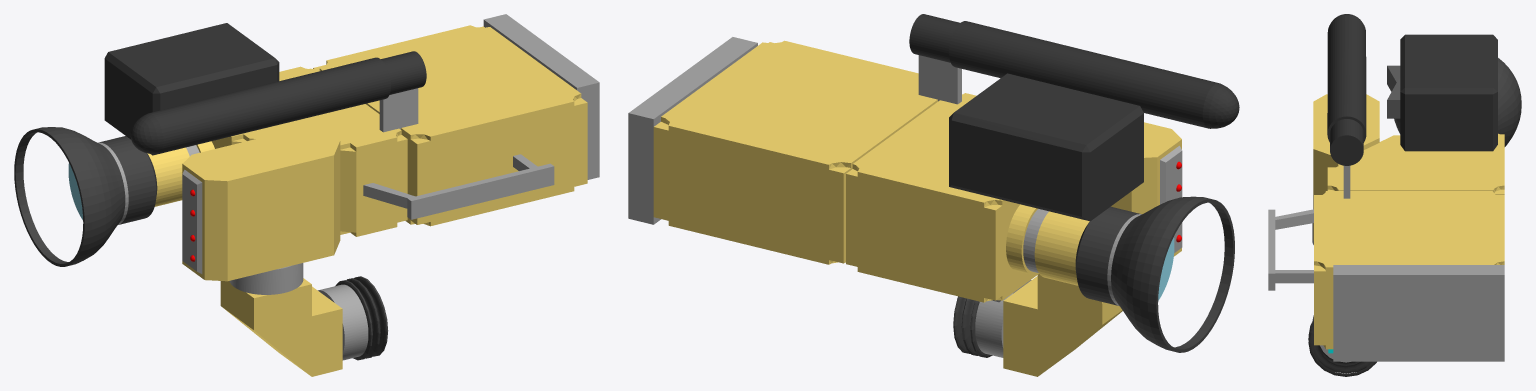
Rendered from CAMERA.glb.
3 renders of one model, left to right at view 1: azimuth 30°, elevation 25°; view 2: azimuth 150°, elevation 25°; view 3: azimuth 270°, elevation 25°, orthographic. The views are drawn at different scales.
Visible parts, largest first — view 1: _0; view 2: _0; view 3: _0.
Boxes of the visible parts, x1,y1,x2,y2 form: _0: (14, 14, 599, 376); _0: (628, 14, 1239, 376); _0: (1268, 14, 1521, 376).
Bounding box in the file's own units: 6.66 × 3.84 × 3.31.
